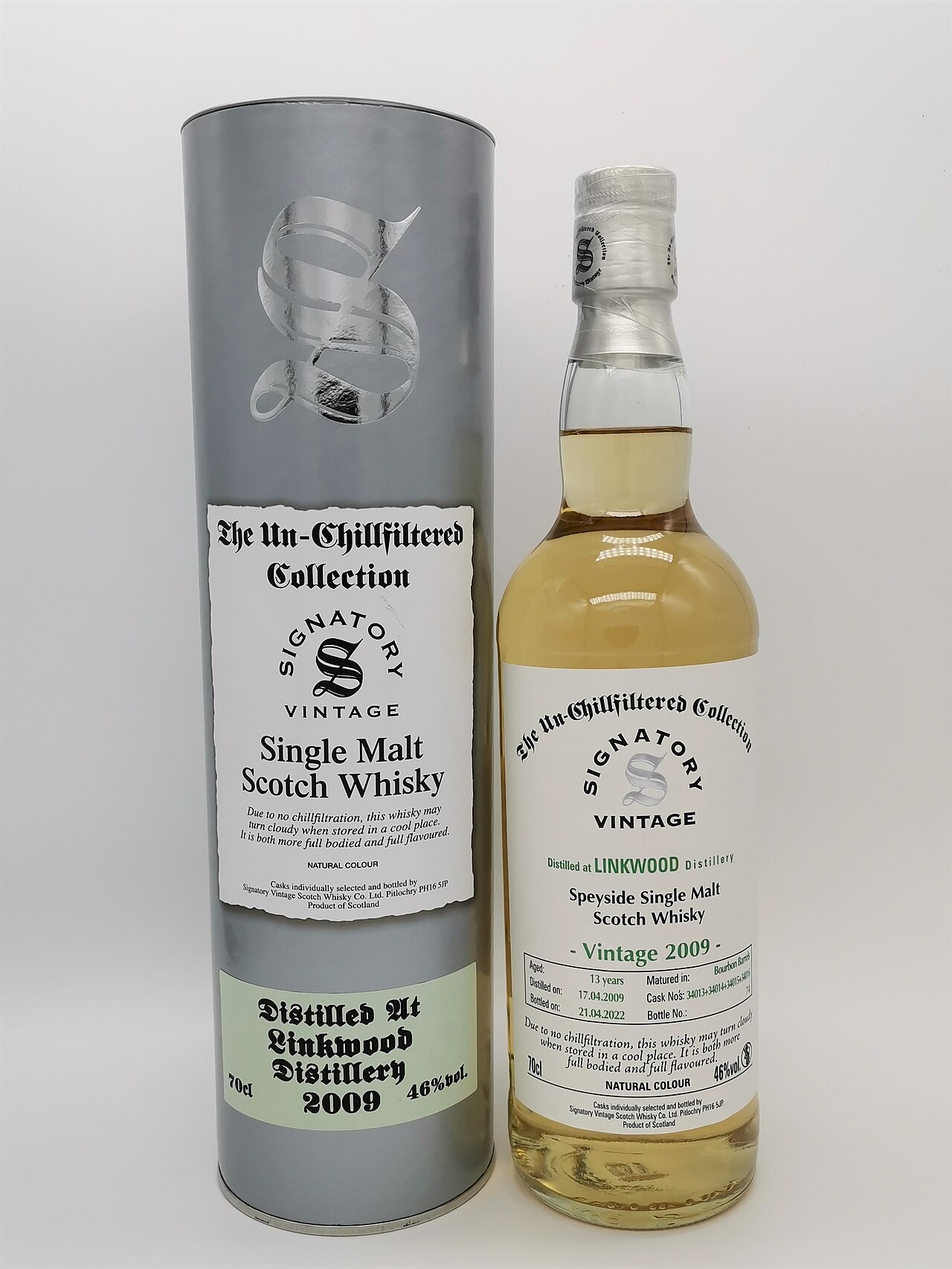unknown_bottle: (185, 98, 500, 1245), (497, 163, 762, 1234)
